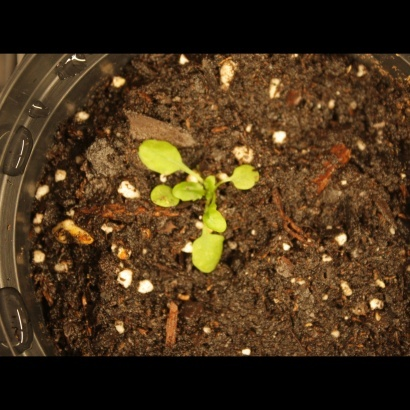leaf: (186, 231, 230, 285), (136, 136, 185, 178), (226, 162, 269, 192), (146, 182, 182, 212), (200, 205, 233, 235), (170, 181, 208, 205), (200, 174, 223, 197)
